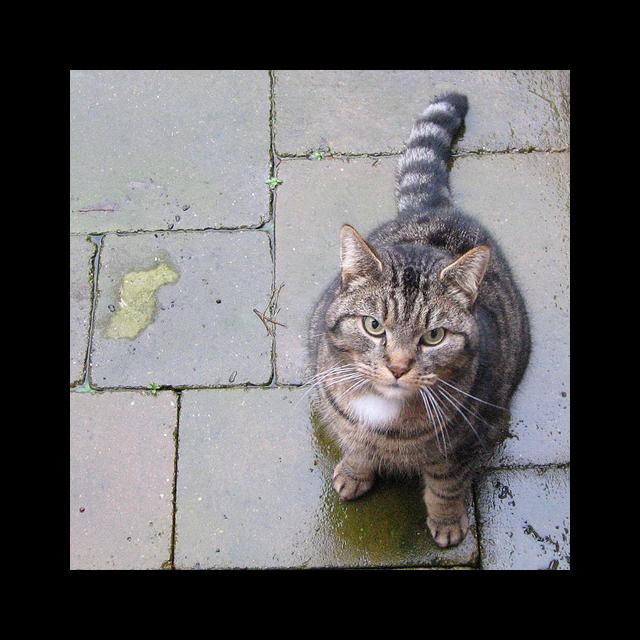animals: (342, 226, 487, 376)
